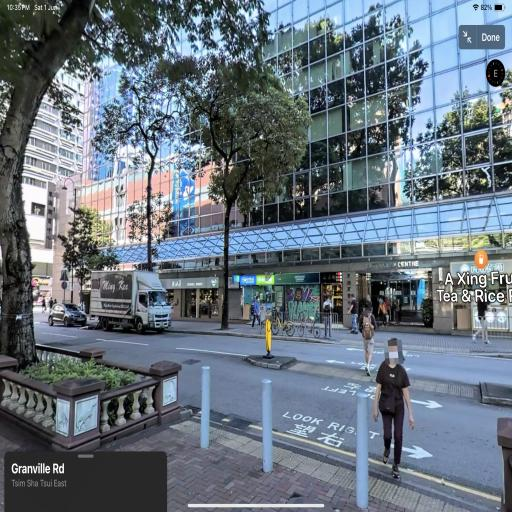Roads: (44, 293, 508, 498)
Trees: (166, 27, 318, 341), (105, 22, 236, 292)
